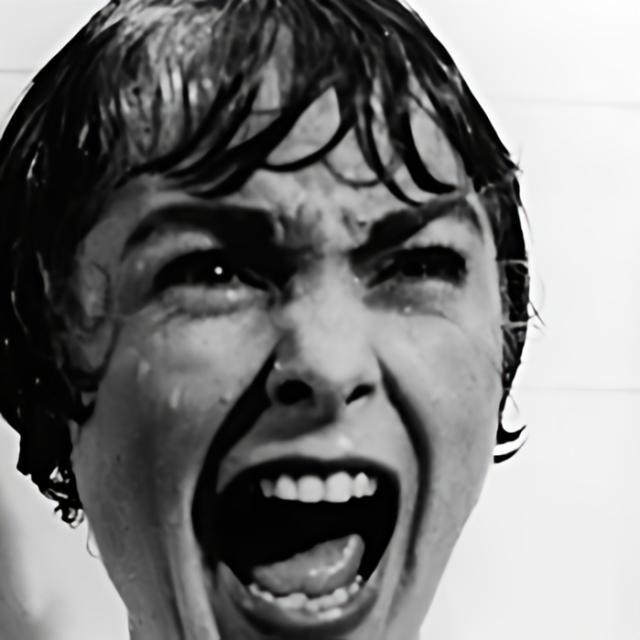fear: (69, 2, 503, 640)
